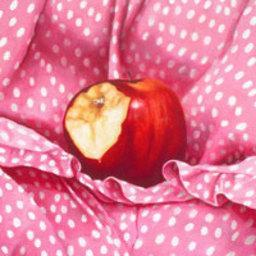apple: (60, 80, 188, 183)
